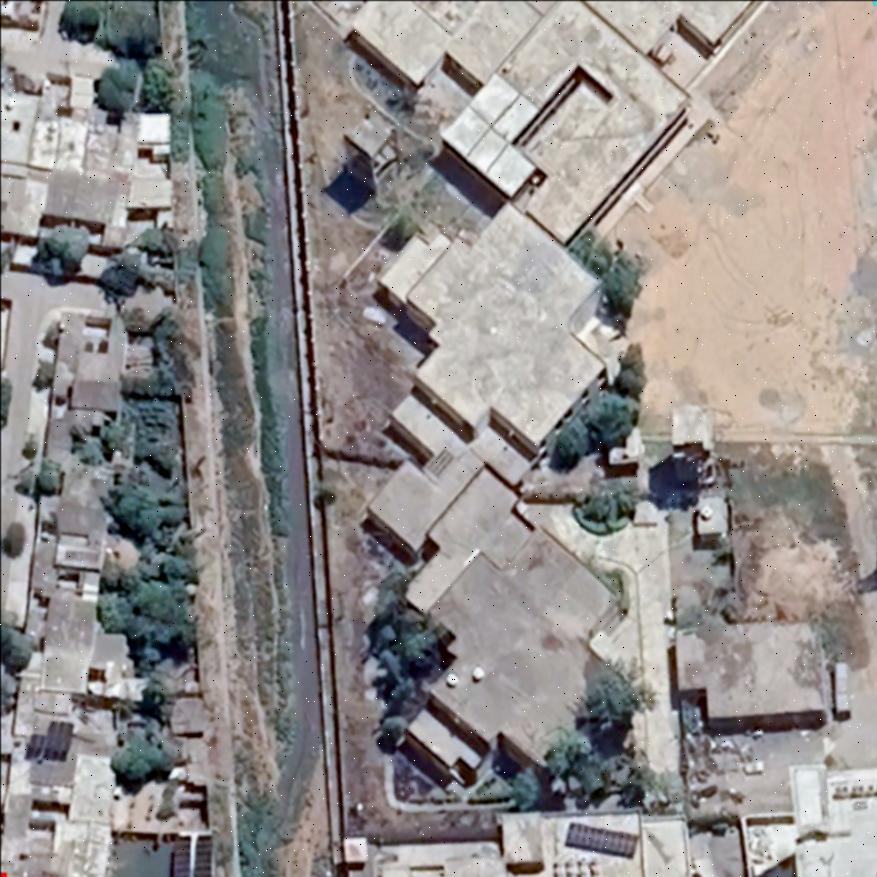Solarpanel: (558, 819, 648, 864), (22, 714, 78, 758)
